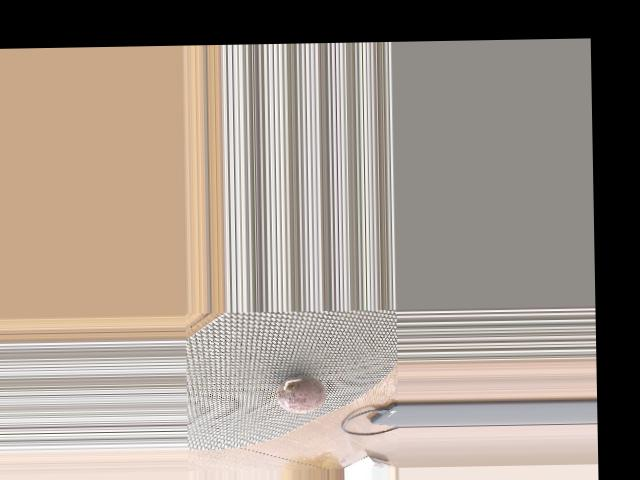beet: (277, 375, 326, 413)
